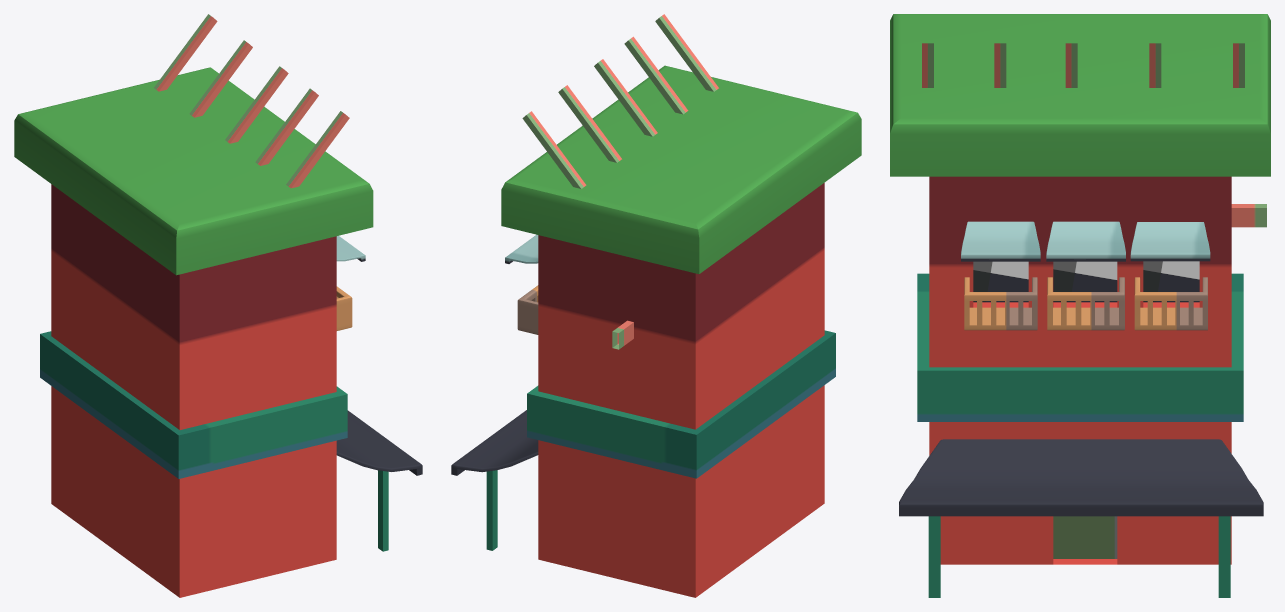
The model's file is BuildingShort_05B.fbx.
The picture shows the model from 3 angles, left to right: view 1: azimuth 30°, elevation 25°; view 2: azimuth 150°, elevation 25°; view 3: azimuth 270°, elevation 25°; orthographic projection. The views are drawn at different scales.
Visible parts, largest first — view 1: polySurface1073; view 2: polySurface1073; view 3: polySurface1073.
Boxes of the visible parts, bbox=[...] form: polySurface1073: bbox=[14, 14, 422, 597]; polySurface1073: bbox=[451, 14, 861, 597]; polySurface1073: bbox=[890, 14, 1270, 597].
Bounding box in the file's own units: 4.81 × 8.24 × 5.38.
